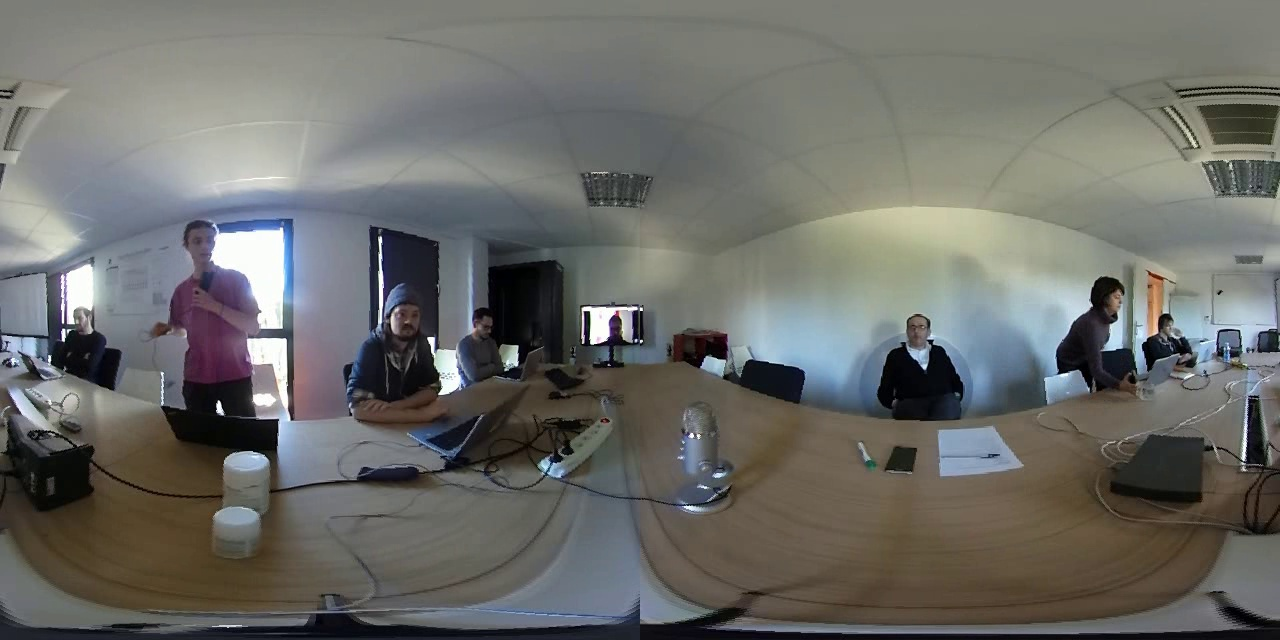person: (147, 209, 276, 394), (346, 273, 444, 421), (877, 301, 965, 427), (1047, 259, 1132, 389), (47, 297, 119, 379), (452, 292, 511, 374), (1138, 301, 1204, 361), (582, 306, 647, 340)
